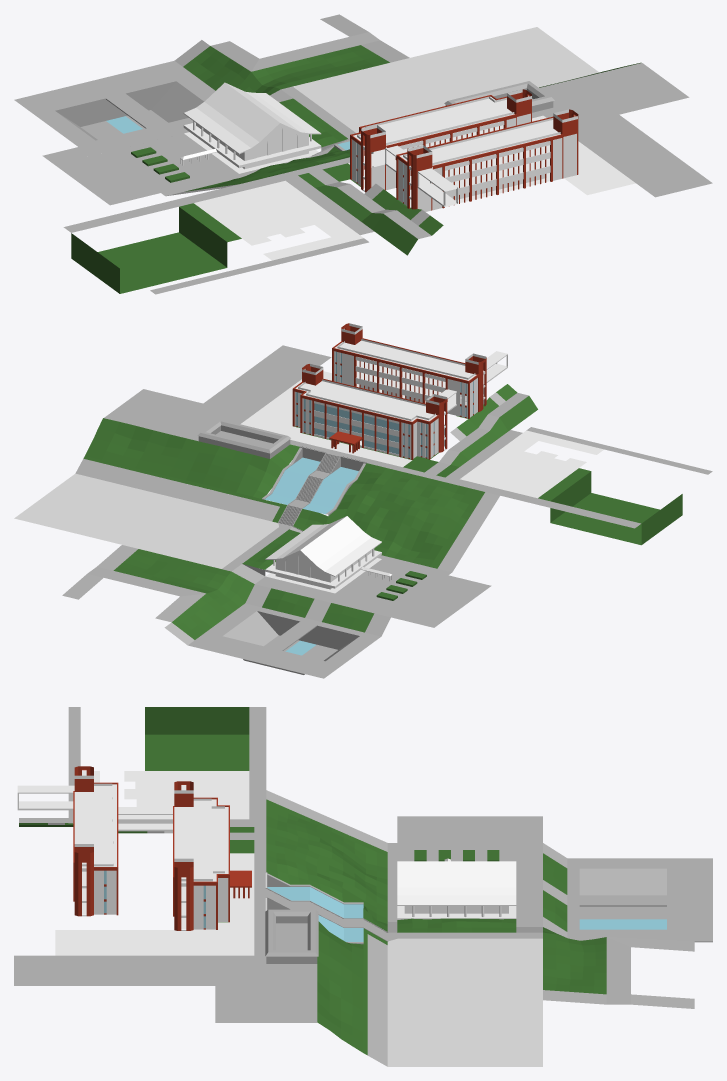
File: map.fbx
The picture shows the model from 3 angles, top to bottom: view 1: azimuth 30°, elevation 25°; view 2: azimuth 150°, elevation 25°; view 3: azimuth 270°, elevation 25°; orthographic projection. The views are drawn at different scales.
Parts seen in each view (by area): view 1: walkroad, terrain, school_bb_walls, lib_walls, school_ba_walls, school_bb_ground, school_ba_ground; view 2: walkroad, terrain, school_ba_walls, school_bb_walls, lib_walls, school_ba_glass, school_bb_ground; view 3: walkroad, terrain, school_ba_walls, school_bb_walls, lib_walls.
Part boxes in pixels (left/top/right/bottom): walkroad: left=14, top=14, right=712, bottom=294; terrain: left=71, top=45, right=641, bottom=293; school_bb_walls: left=396, top=109, right=578, bottom=211; lib_walls: left=180, top=82, right=321, bottom=173; school_ba_walls: left=350, top=89, right=531, bottom=192; school_bb_ground: left=410, top=141, right=549, bottom=207; school_ba_ground: left=363, top=121, right=503, bottom=187; walkroad: left=14, top=345, right=712, bottom=678; terrain: left=83, top=418, right=682, bottom=639; school_ba_walls: left=292, top=364, right=456, bottom=459; school_bb_walls: left=332, top=323, right=507, bottom=418; lib_walls: left=265, top=516, right=391, bottom=593; school_ba_glass: left=296, top=392, right=434, bottom=457; school_bb_ground: left=356, top=357, right=483, bottom=405; walkroad: left=14, top=707, right=712, bottom=1066; terrain: left=145, top=707, right=606, bottom=1055; school_ba_walls: left=118, top=781, right=251, bottom=930; school_bb_walls: left=17, top=766, right=118, bottom=916; lib_walls: left=397, top=858, right=516, bottom=919.
Bounding box in the file's own units: 3696 × 930 × 3456.
